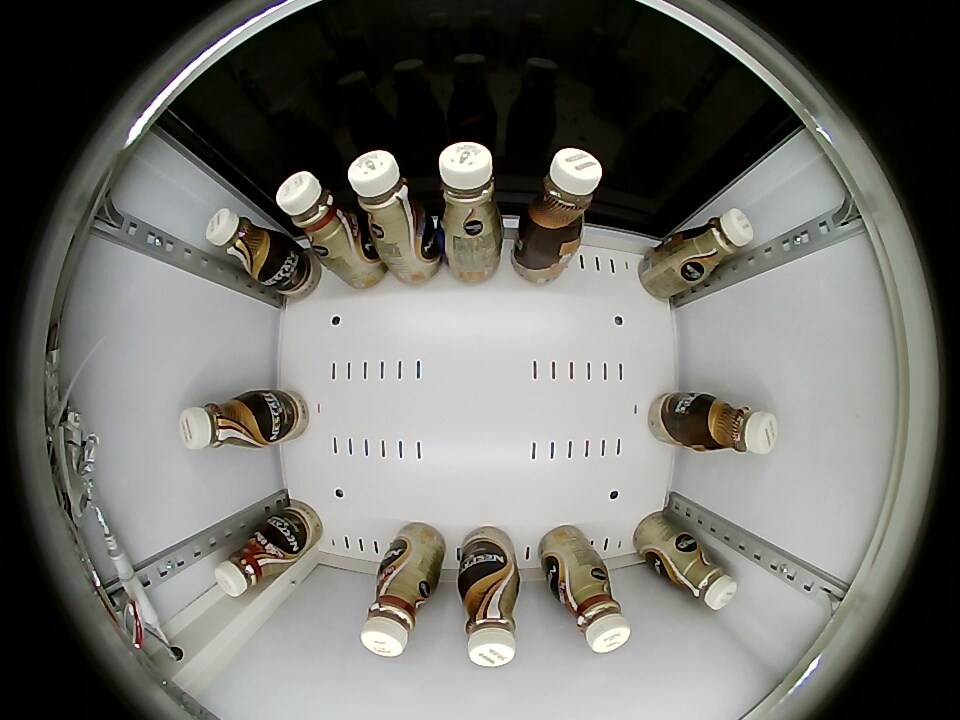kafei: (520, 147, 602, 252), (360, 552, 441, 658), (348, 150, 435, 242), (277, 171, 361, 255), (458, 562, 521, 668), (554, 568, 631, 654), (205, 208, 289, 284), (437, 142, 502, 238), (673, 208, 755, 281), (687, 392, 778, 456), (179, 392, 268, 452), (215, 527, 290, 597), (666, 540, 737, 610)
